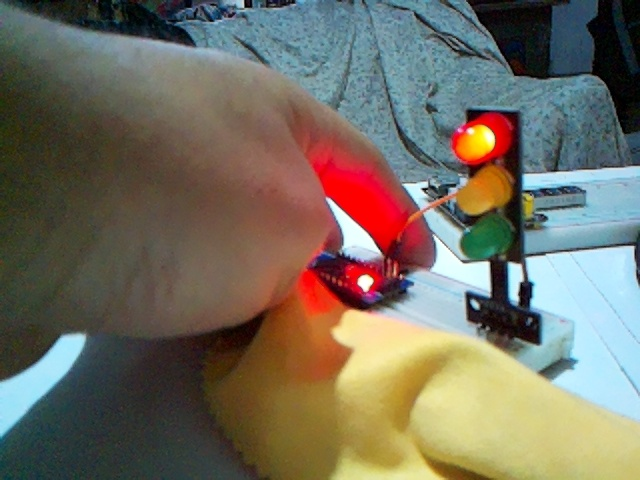traffic_light_red: (450, 108, 531, 318)
